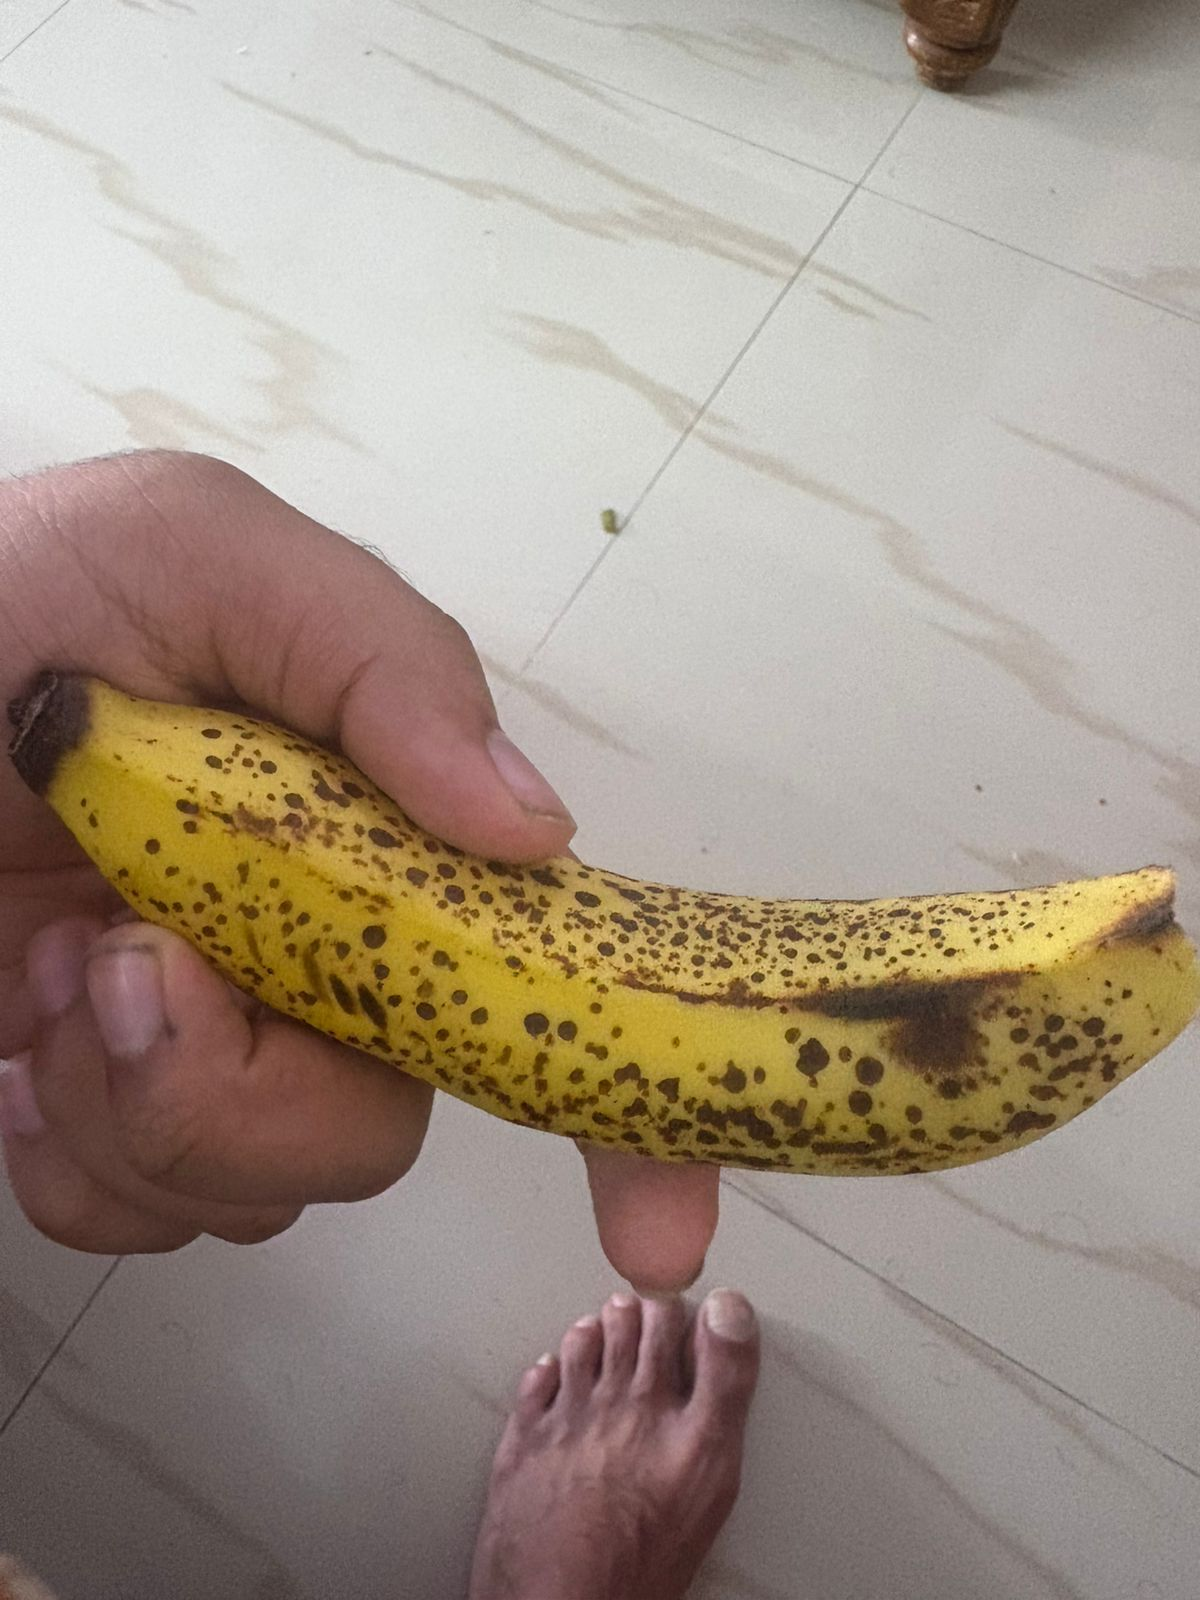wet: (29, 627, 1199, 1212)
